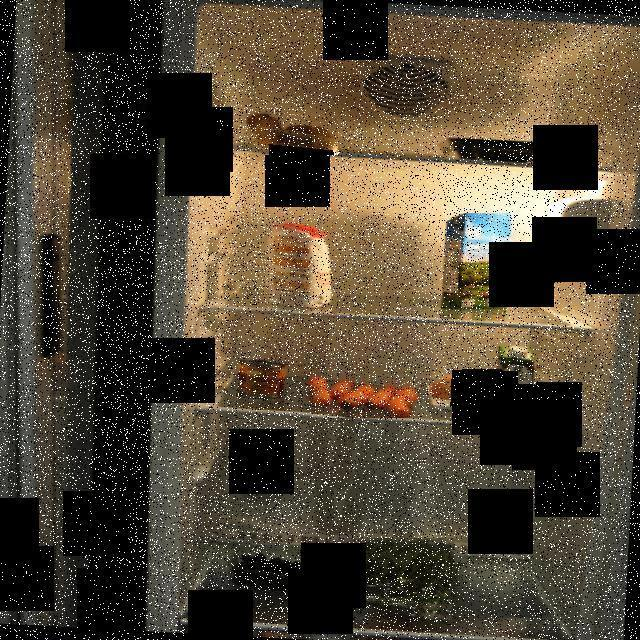blueberries: (234, 545, 310, 594)
carrot: (305, 374, 423, 418)
corn: (238, 356, 286, 396)
egg: (428, 368, 502, 406)
green_beans: (338, 538, 454, 620)
heavy_cream: (494, 342, 536, 415)
milk: (444, 213, 517, 317)
potato: (242, 109, 338, 155)
sugar: (260, 219, 337, 314)
